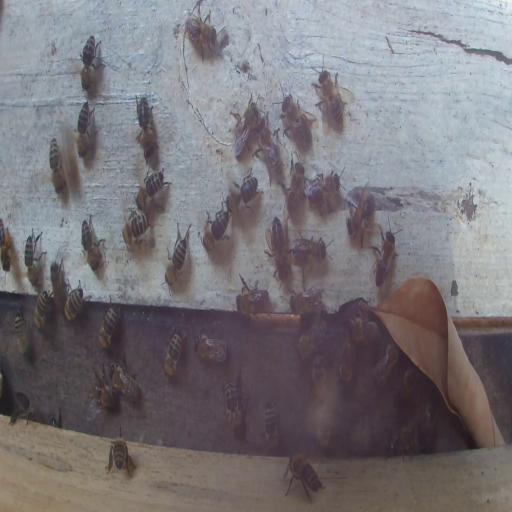bee: (313, 55, 348, 130), (184, 6, 226, 62), (369, 215, 400, 288), (282, 452, 325, 502), (344, 182, 374, 245), (279, 89, 313, 144), (165, 220, 192, 288), (231, 96, 260, 156), (222, 372, 250, 434), (294, 314, 329, 362), (137, 167, 172, 212), (266, 212, 288, 283), (257, 116, 282, 174), (24, 226, 46, 291), (235, 273, 266, 319), (81, 216, 105, 275), (204, 196, 232, 246), (134, 95, 156, 158), (80, 34, 104, 91), (304, 171, 339, 210), (74, 98, 96, 160), (348, 302, 380, 344), (109, 360, 140, 402), (105, 434, 134, 478), (289, 234, 328, 266), (88, 366, 115, 412), (371, 343, 399, 385), (336, 337, 360, 385), (64, 278, 90, 322), (98, 298, 120, 350), (121, 210, 151, 248), (161, 329, 183, 379), (310, 356, 330, 410), (284, 159, 304, 212), (388, 426, 417, 460), (49, 136, 65, 197), (286, 286, 324, 311), (195, 333, 227, 362), (48, 258, 64, 314), (399, 368, 419, 408), (33, 289, 52, 331), (14, 308, 29, 358), (1, 220, 14, 276), (264, 399, 278, 449), (240, 174, 258, 208), (16, 391, 34, 423)
